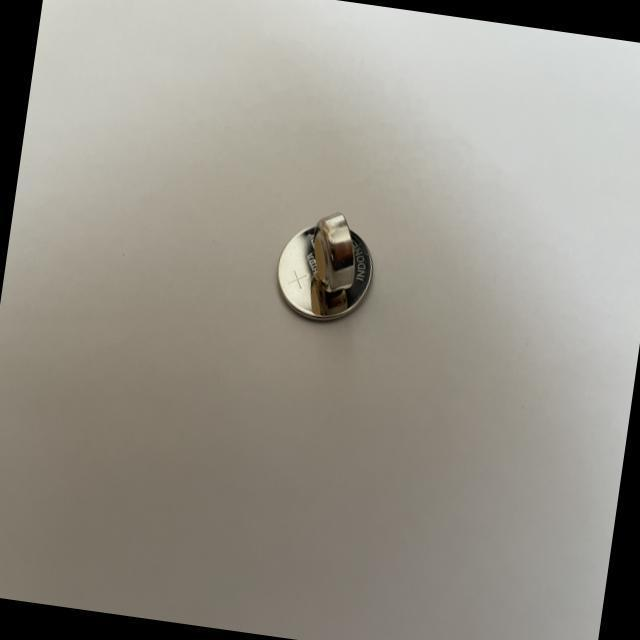COIN: (269, 212, 378, 326), (308, 210, 363, 296)
